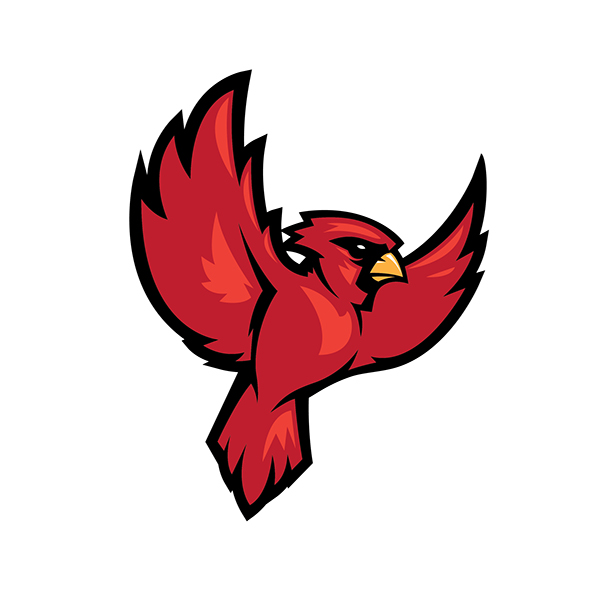bird: (61, 43, 510, 537)
